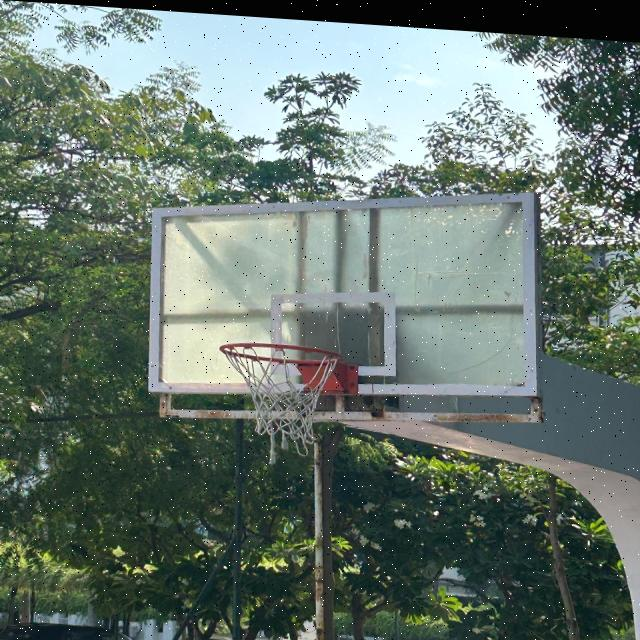hoop: (190, 335, 379, 471)
